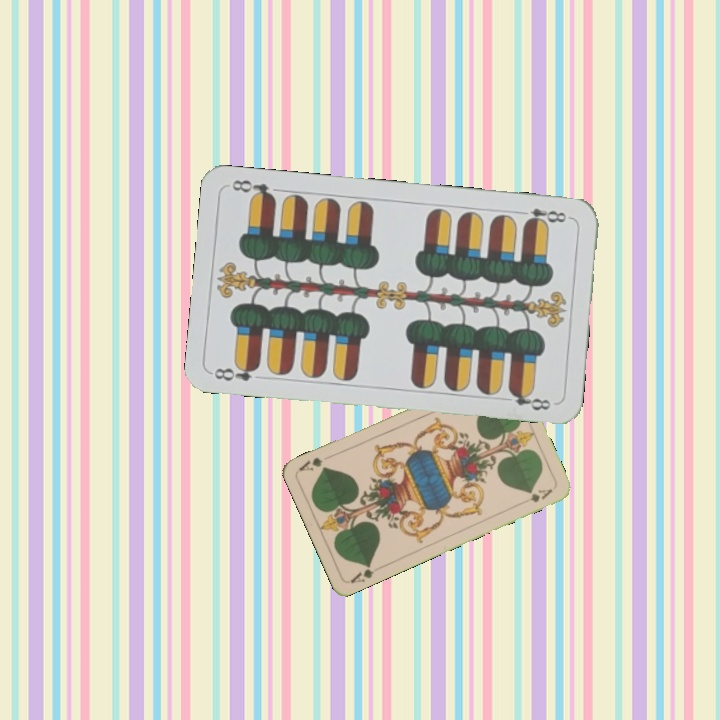E8: (514, 204, 573, 228), (210, 359, 262, 384)
GA: (346, 560, 376, 586)
